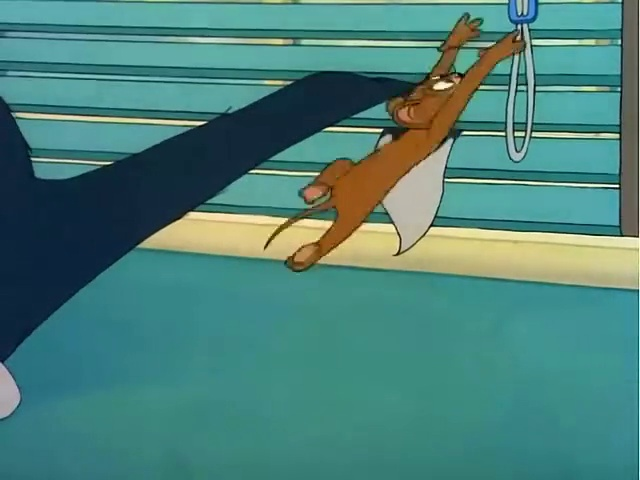jerry: (292, 20, 540, 311)
